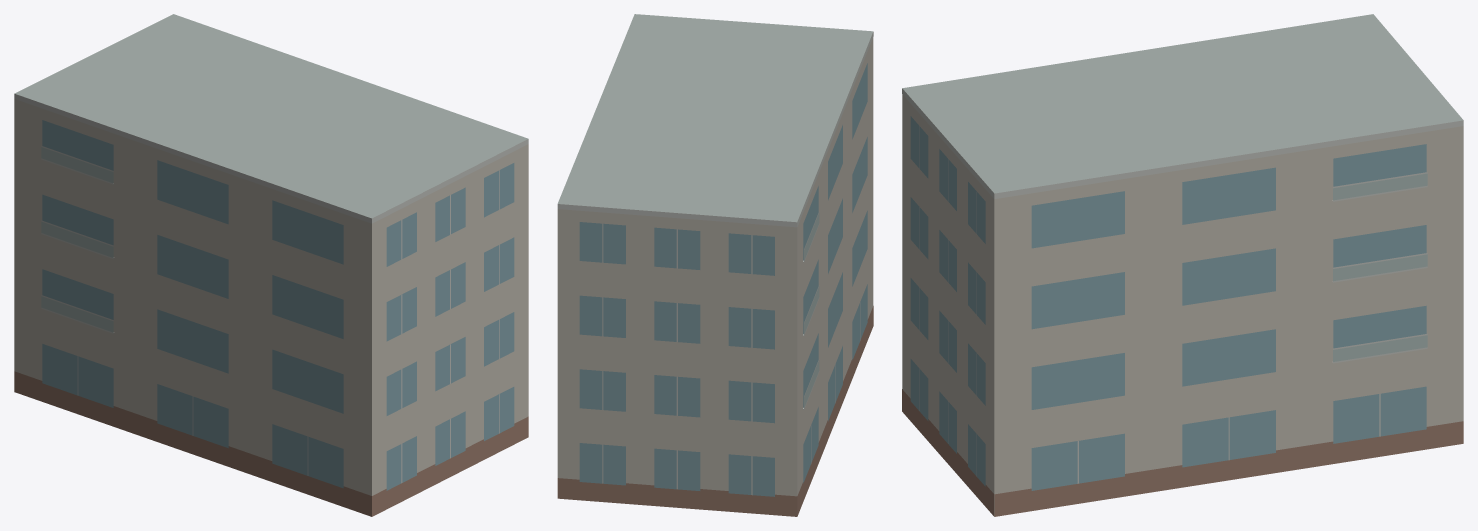
Rendered from survey-upis-32863673.glb.
The picture shows the model from 3 angles, left to right: view 1: azimuth 30°, elevation 25°; view 2: azimuth 150°, elevation 25°; view 3: azimuth 270°, elevation 25°; orthographic projection. The views are drawn at different scales.
Parts seen in each view (by area): view 1: survey-upis-32863673.tmp; view 2: survey-upis-32863673.tmp; view 3: survey-upis-32863673.tmp.
Boxes of the visible parts, x1,y1,x2,y2 form: survey-upis-32863673.tmp: (14,14,528,516); survey-upis-32863673.tmp: (557,14,873,516); survey-upis-32863673.tmp: (902,14,1463,516).
Bounding box in the file's own units: 16.68 × 14 × 22.05.
